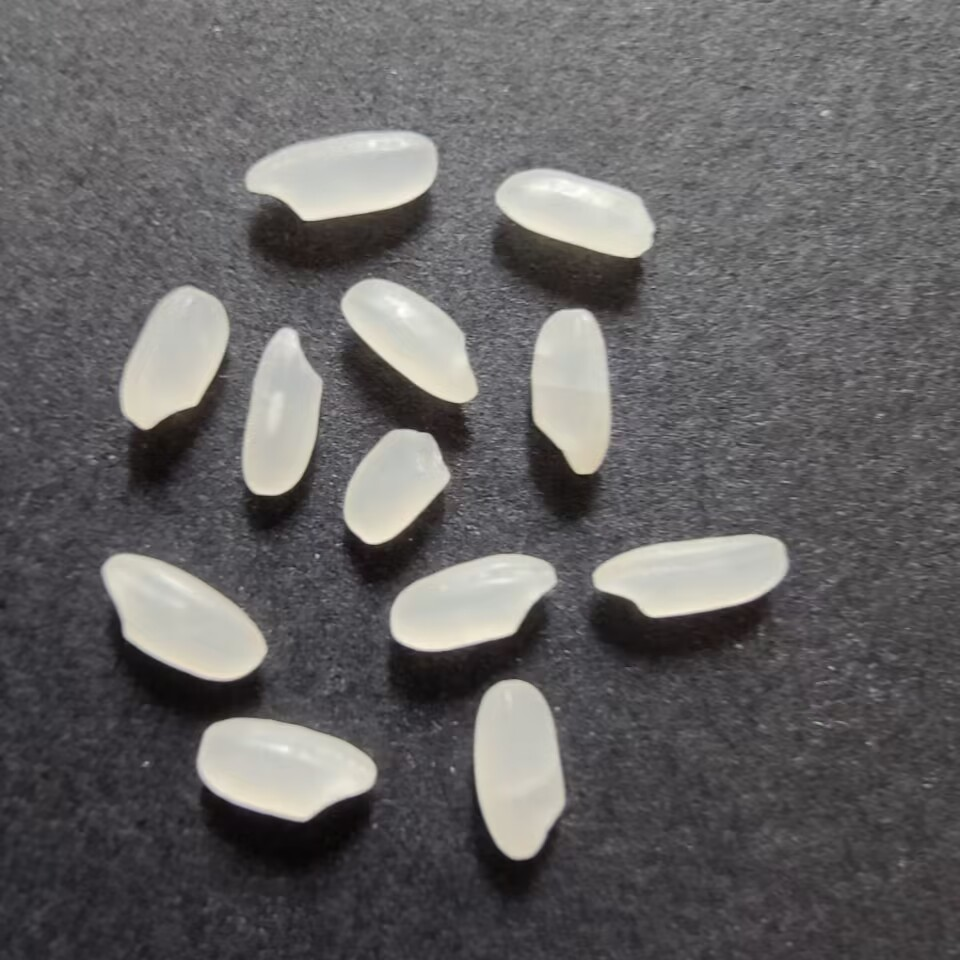broken: (337, 423, 455, 547)
rice: (96, 549, 272, 686), (192, 712, 381, 827), (239, 125, 441, 226), (112, 281, 237, 435), (336, 276, 479, 408), (587, 528, 789, 620), (471, 677, 568, 867), (385, 551, 564, 653), (488, 164, 660, 263), (523, 305, 616, 482), (239, 321, 327, 498)
